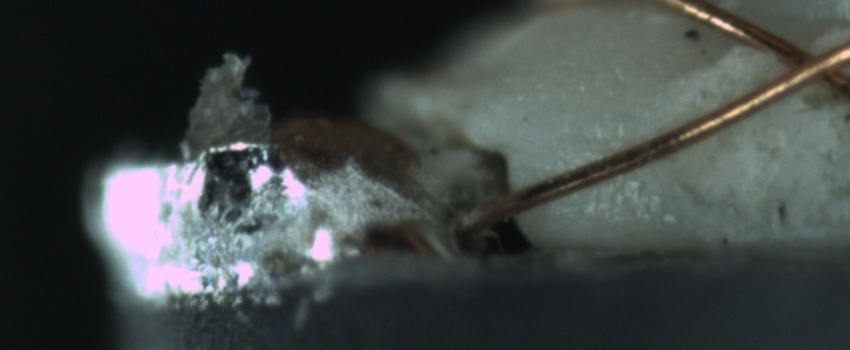CL: (755, 27, 848, 99)
DL: (558, 112, 650, 168)
